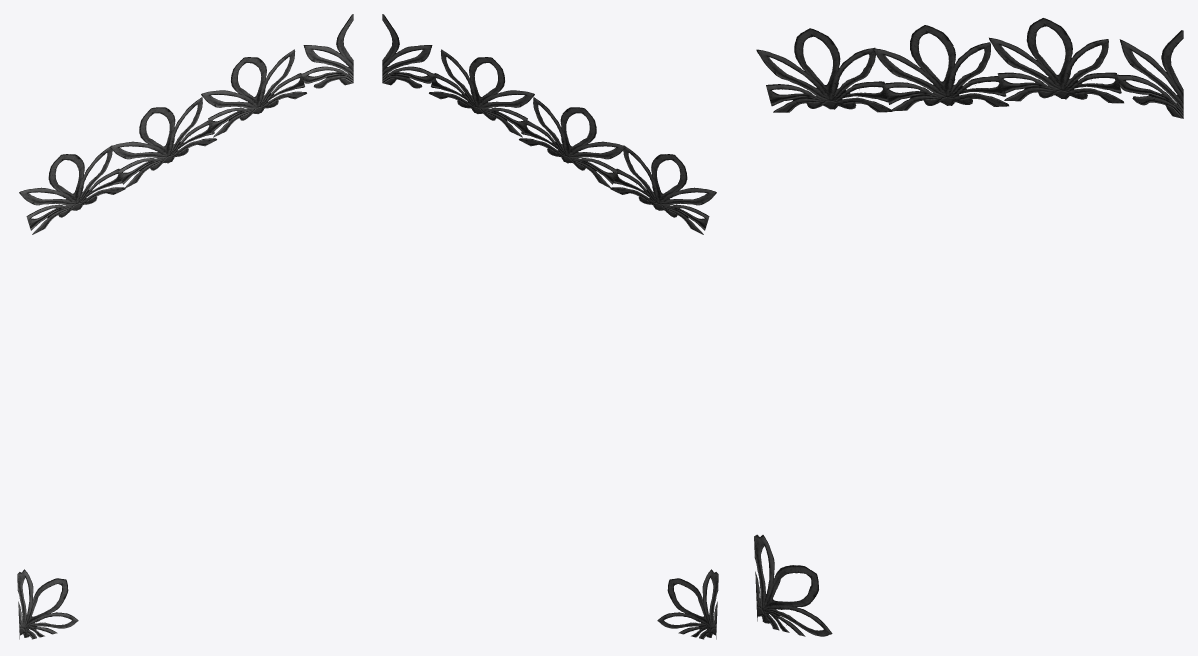
The model's file is Church_IronFenceSheet.fbx.
3 renders of one model, left to right at view 1: azimuth 30°, elevation 25°; view 2: azimuth 150°, elevation 25°; view 3: azimuth 330°, elevation 25°, orthographic. The views are drawn at different scales.
Visible parts, largest first — view 1: Church_IronFenceSheet; view 2: Church_IronFenceSheet; view 3: Church_IronFenceSheet.
Boxes of the visible parts, x1,y1,x2,y2 form: Church_IronFenceSheet: (17, 14, 353, 639); Church_IronFenceSheet: (382, 14, 718, 639); Church_IronFenceSheet: (754, 18, 1183, 636).
Bounding box in the file's own units: 1.83 × 2.82 × 6.1e-07.
